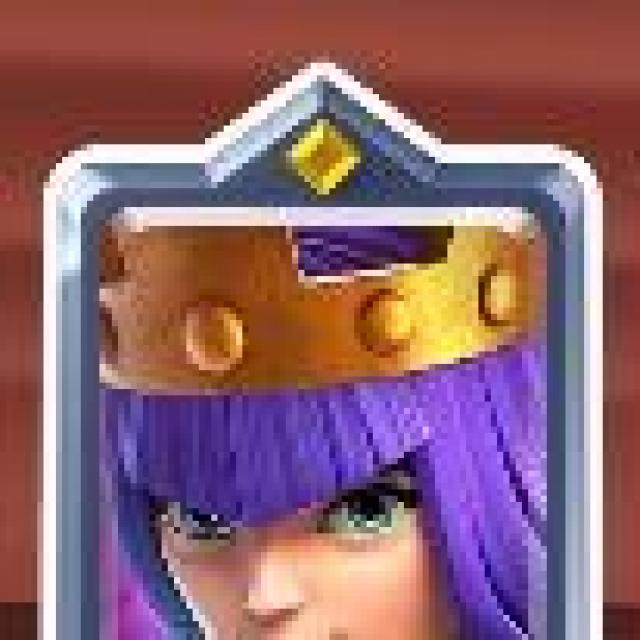Archer_Queen: (41, 57, 604, 640)
